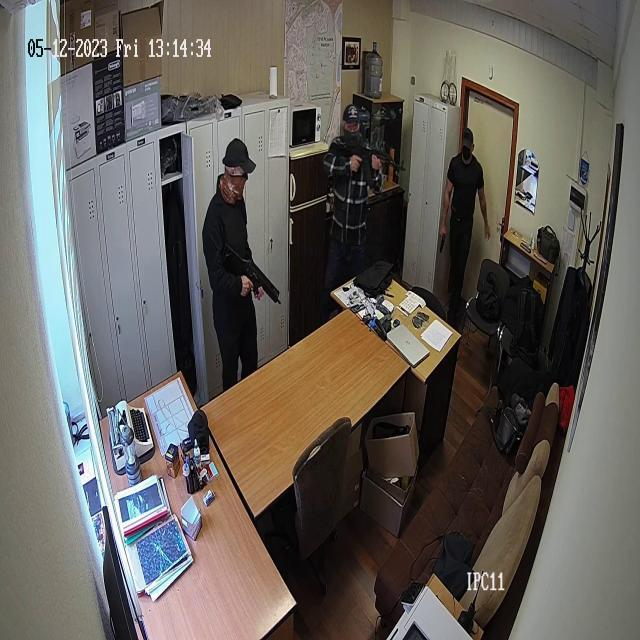pistol: (220, 240, 282, 308), (346, 140, 408, 174), (439, 228, 447, 256)
